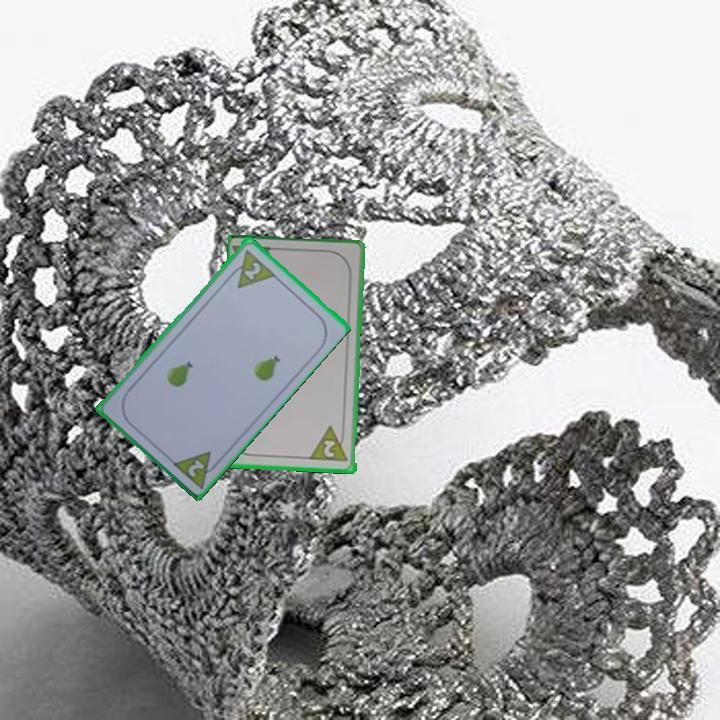2p: (168, 446, 224, 491), (308, 423, 351, 465), (241, 258, 264, 282)
